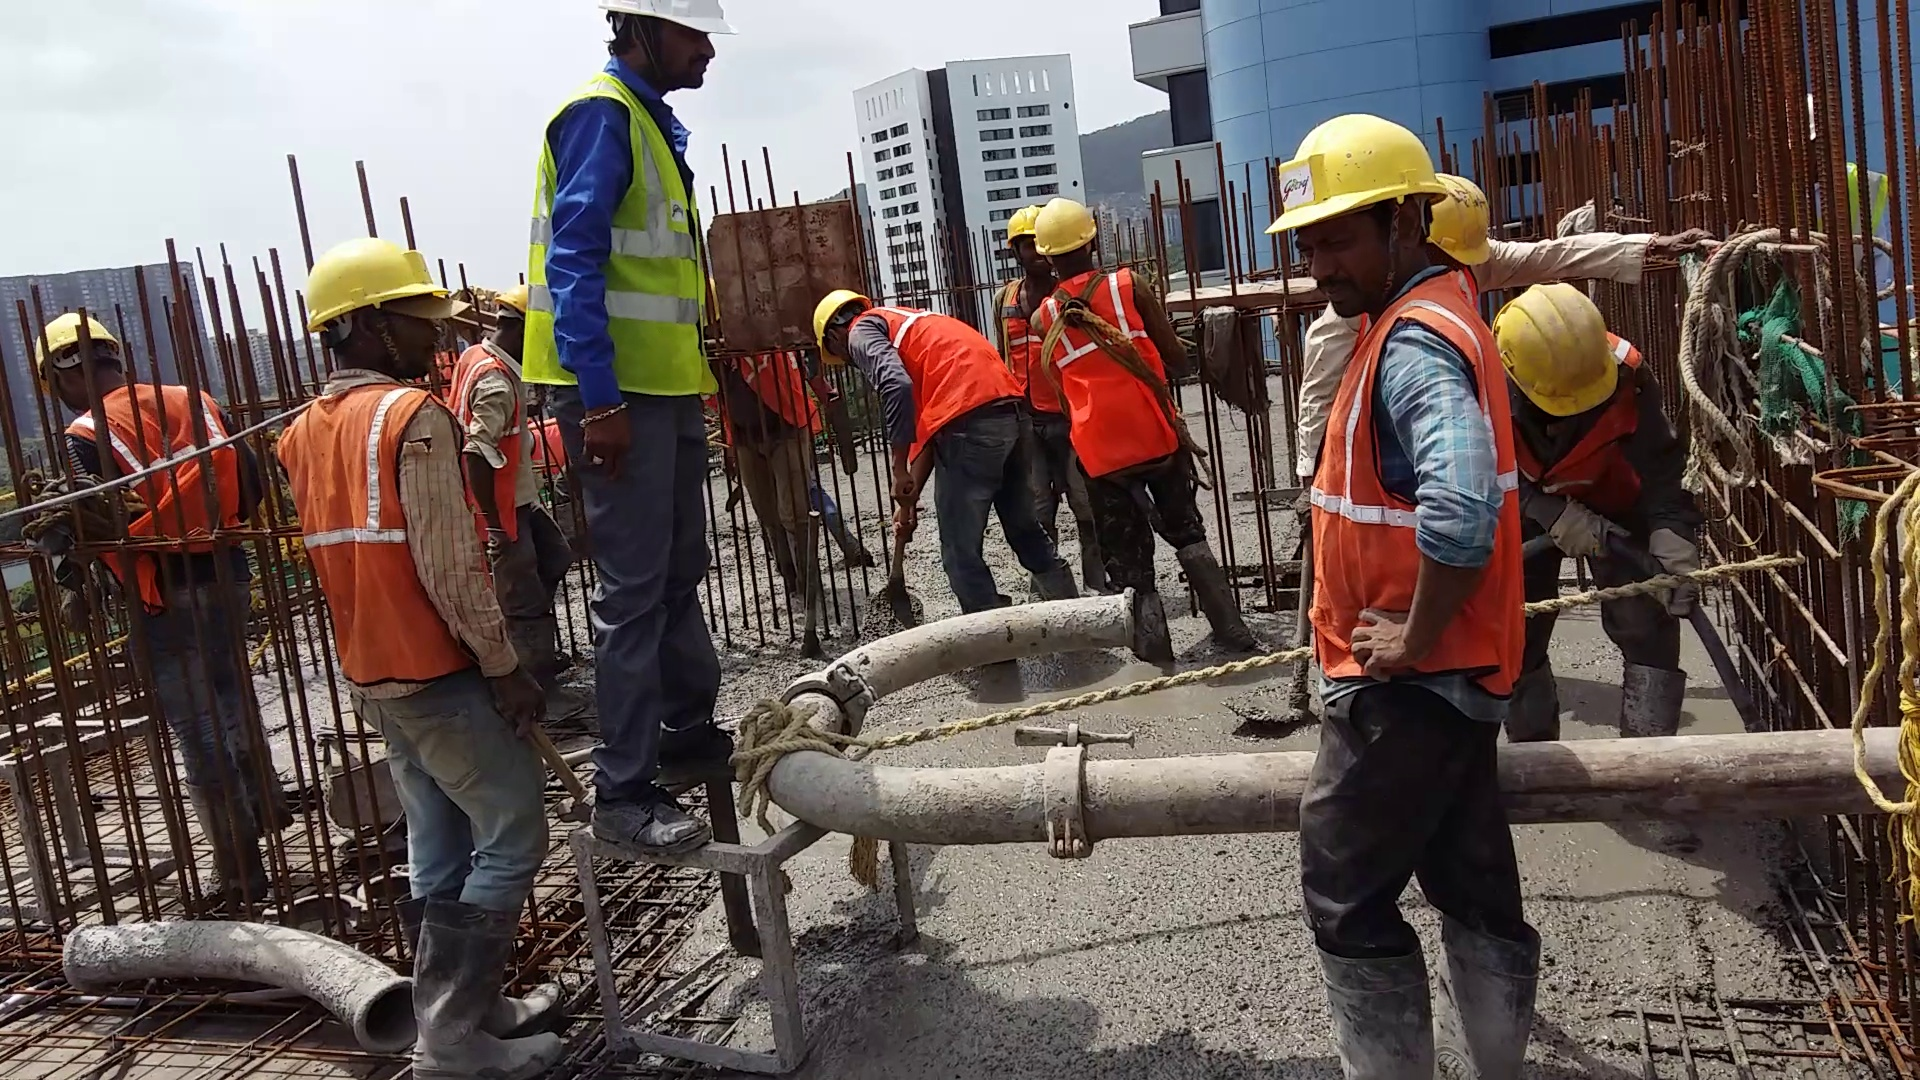SAFE: (1279, 113, 1493, 684), (277, 240, 460, 698), (527, 1, 731, 402), (1498, 280, 1654, 535), (1036, 195, 1174, 465), (807, 282, 1005, 447)
